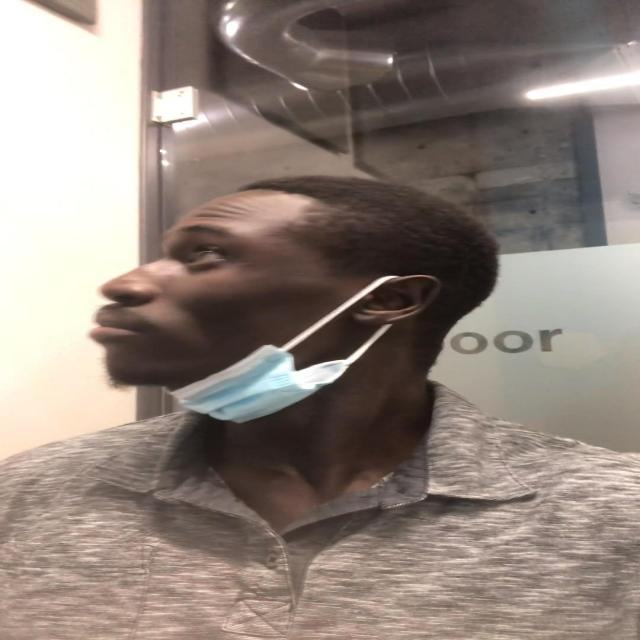face: (88, 199, 438, 387)
